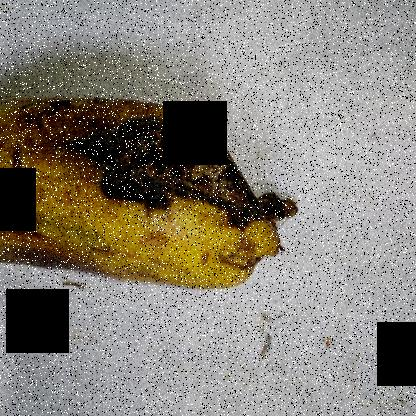rotten: (41, 53, 301, 276), (0, 219, 125, 338)
